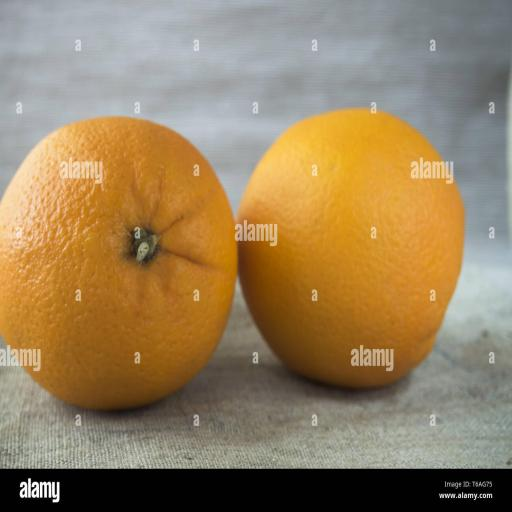orange: (0, 117, 236, 409), (238, 110, 464, 387)
